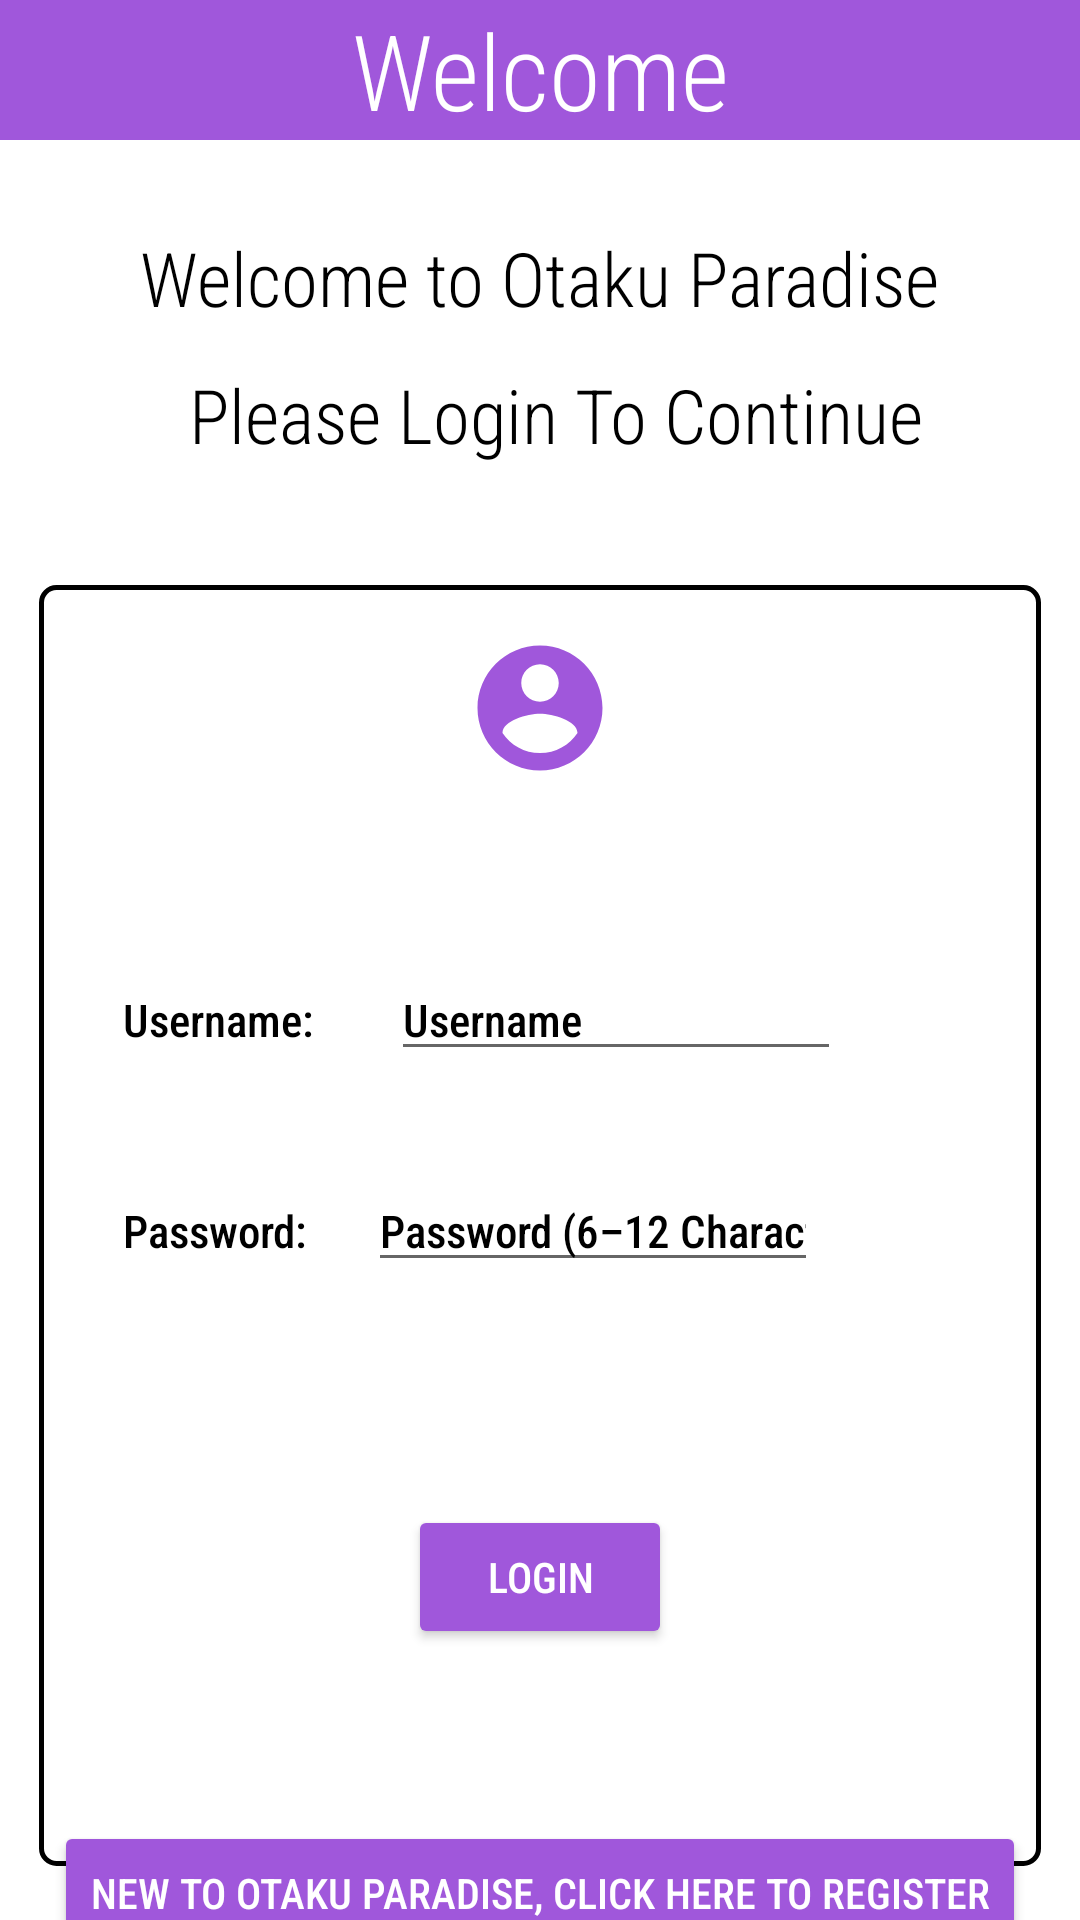

Icons on this 1080 × 1920 Android screen, each with the point to tap as [x,y]:
Profile Button: [540,708]
